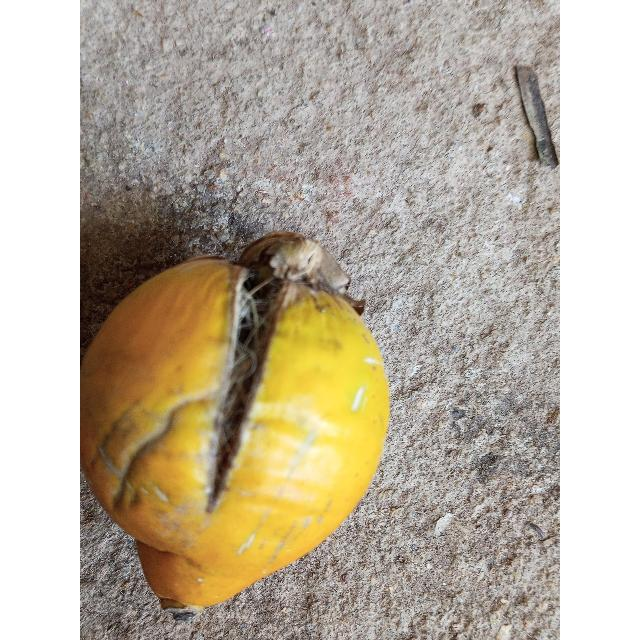damaged: (80, 233, 390, 611)
